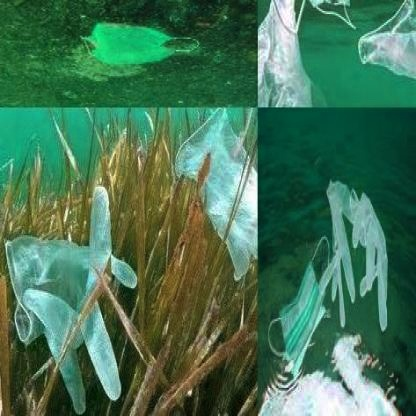Mask: (267, 232, 330, 379), (80, 22, 202, 65), (261, 0, 359, 34)
glove: (2, 179, 147, 415), (172, 108, 257, 313), (258, 0, 340, 106), (356, 0, 415, 106), (352, 178, 391, 332), (319, 179, 356, 330)
